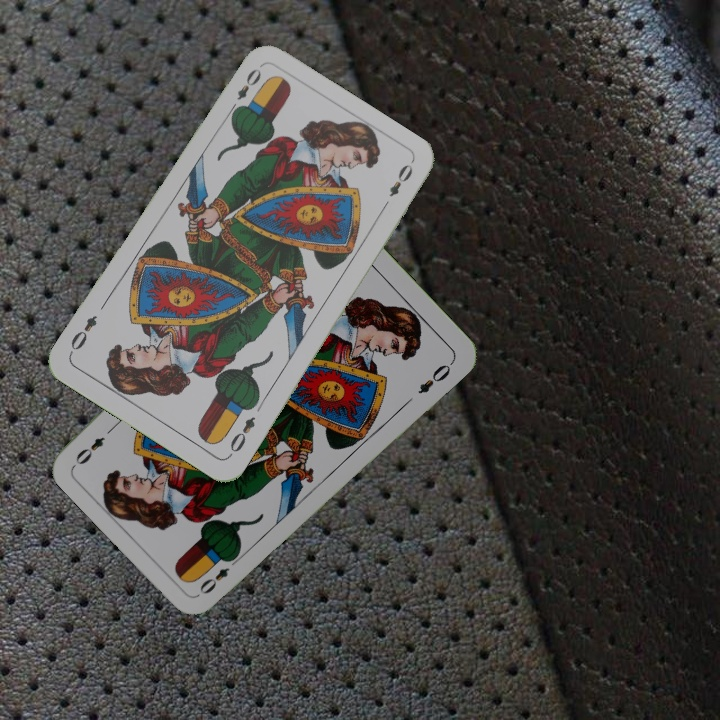EO: (195, 552, 242, 597), (225, 64, 264, 117), (225, 412, 258, 459)
